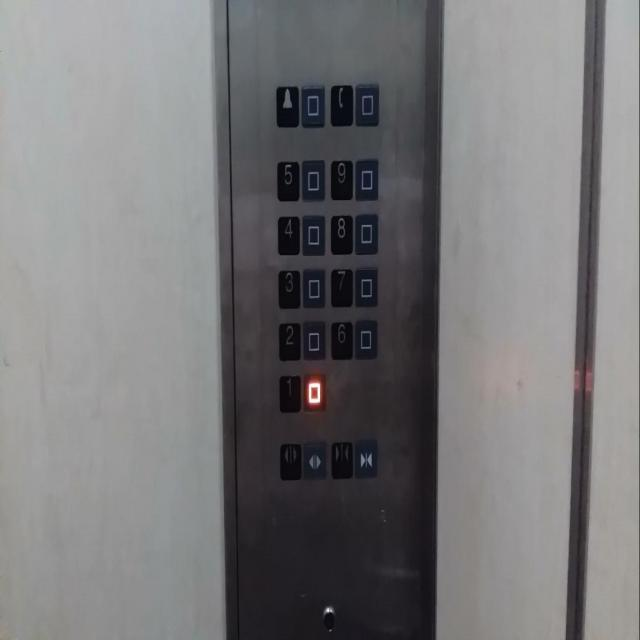1: (277, 373, 302, 414)
2: (277, 321, 302, 362)
3: (277, 268, 302, 309)
4: (276, 213, 301, 256)
5: (276, 159, 300, 202)
6: (330, 319, 353, 360)
7: (329, 268, 354, 309)
8: (329, 213, 354, 255)
9: (329, 158, 354, 201)
alarm: (275, 84, 299, 128)
call: (329, 82, 354, 126)
close: (329, 440, 354, 481), (354, 440, 378, 481)
open: (278, 441, 303, 482), (302, 441, 326, 482)
unknown: (354, 82, 380, 126), (300, 159, 326, 202), (300, 84, 325, 128), (301, 213, 326, 257), (354, 158, 379, 201), (354, 213, 379, 255), (353, 319, 378, 360), (353, 268, 378, 309), (302, 268, 326, 309), (302, 321, 326, 362), (302, 373, 326, 414)
